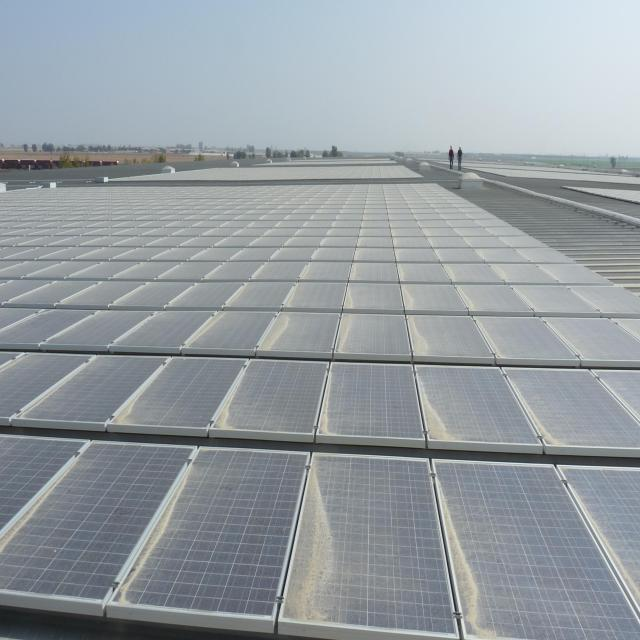Dusty: (557, 461, 640, 640), (109, 451, 193, 609), (427, 457, 499, 640), (276, 449, 340, 619), (3, 437, 93, 554), (5, 372, 97, 425), (498, 363, 552, 450), (411, 359, 459, 453), (108, 357, 168, 429), (205, 354, 259, 428), (36, 303, 106, 345), (108, 310, 164, 350), (312, 359, 337, 443), (255, 303, 292, 353), (181, 312, 227, 350), (469, 311, 500, 359), (331, 302, 356, 358), (405, 312, 431, 364)
